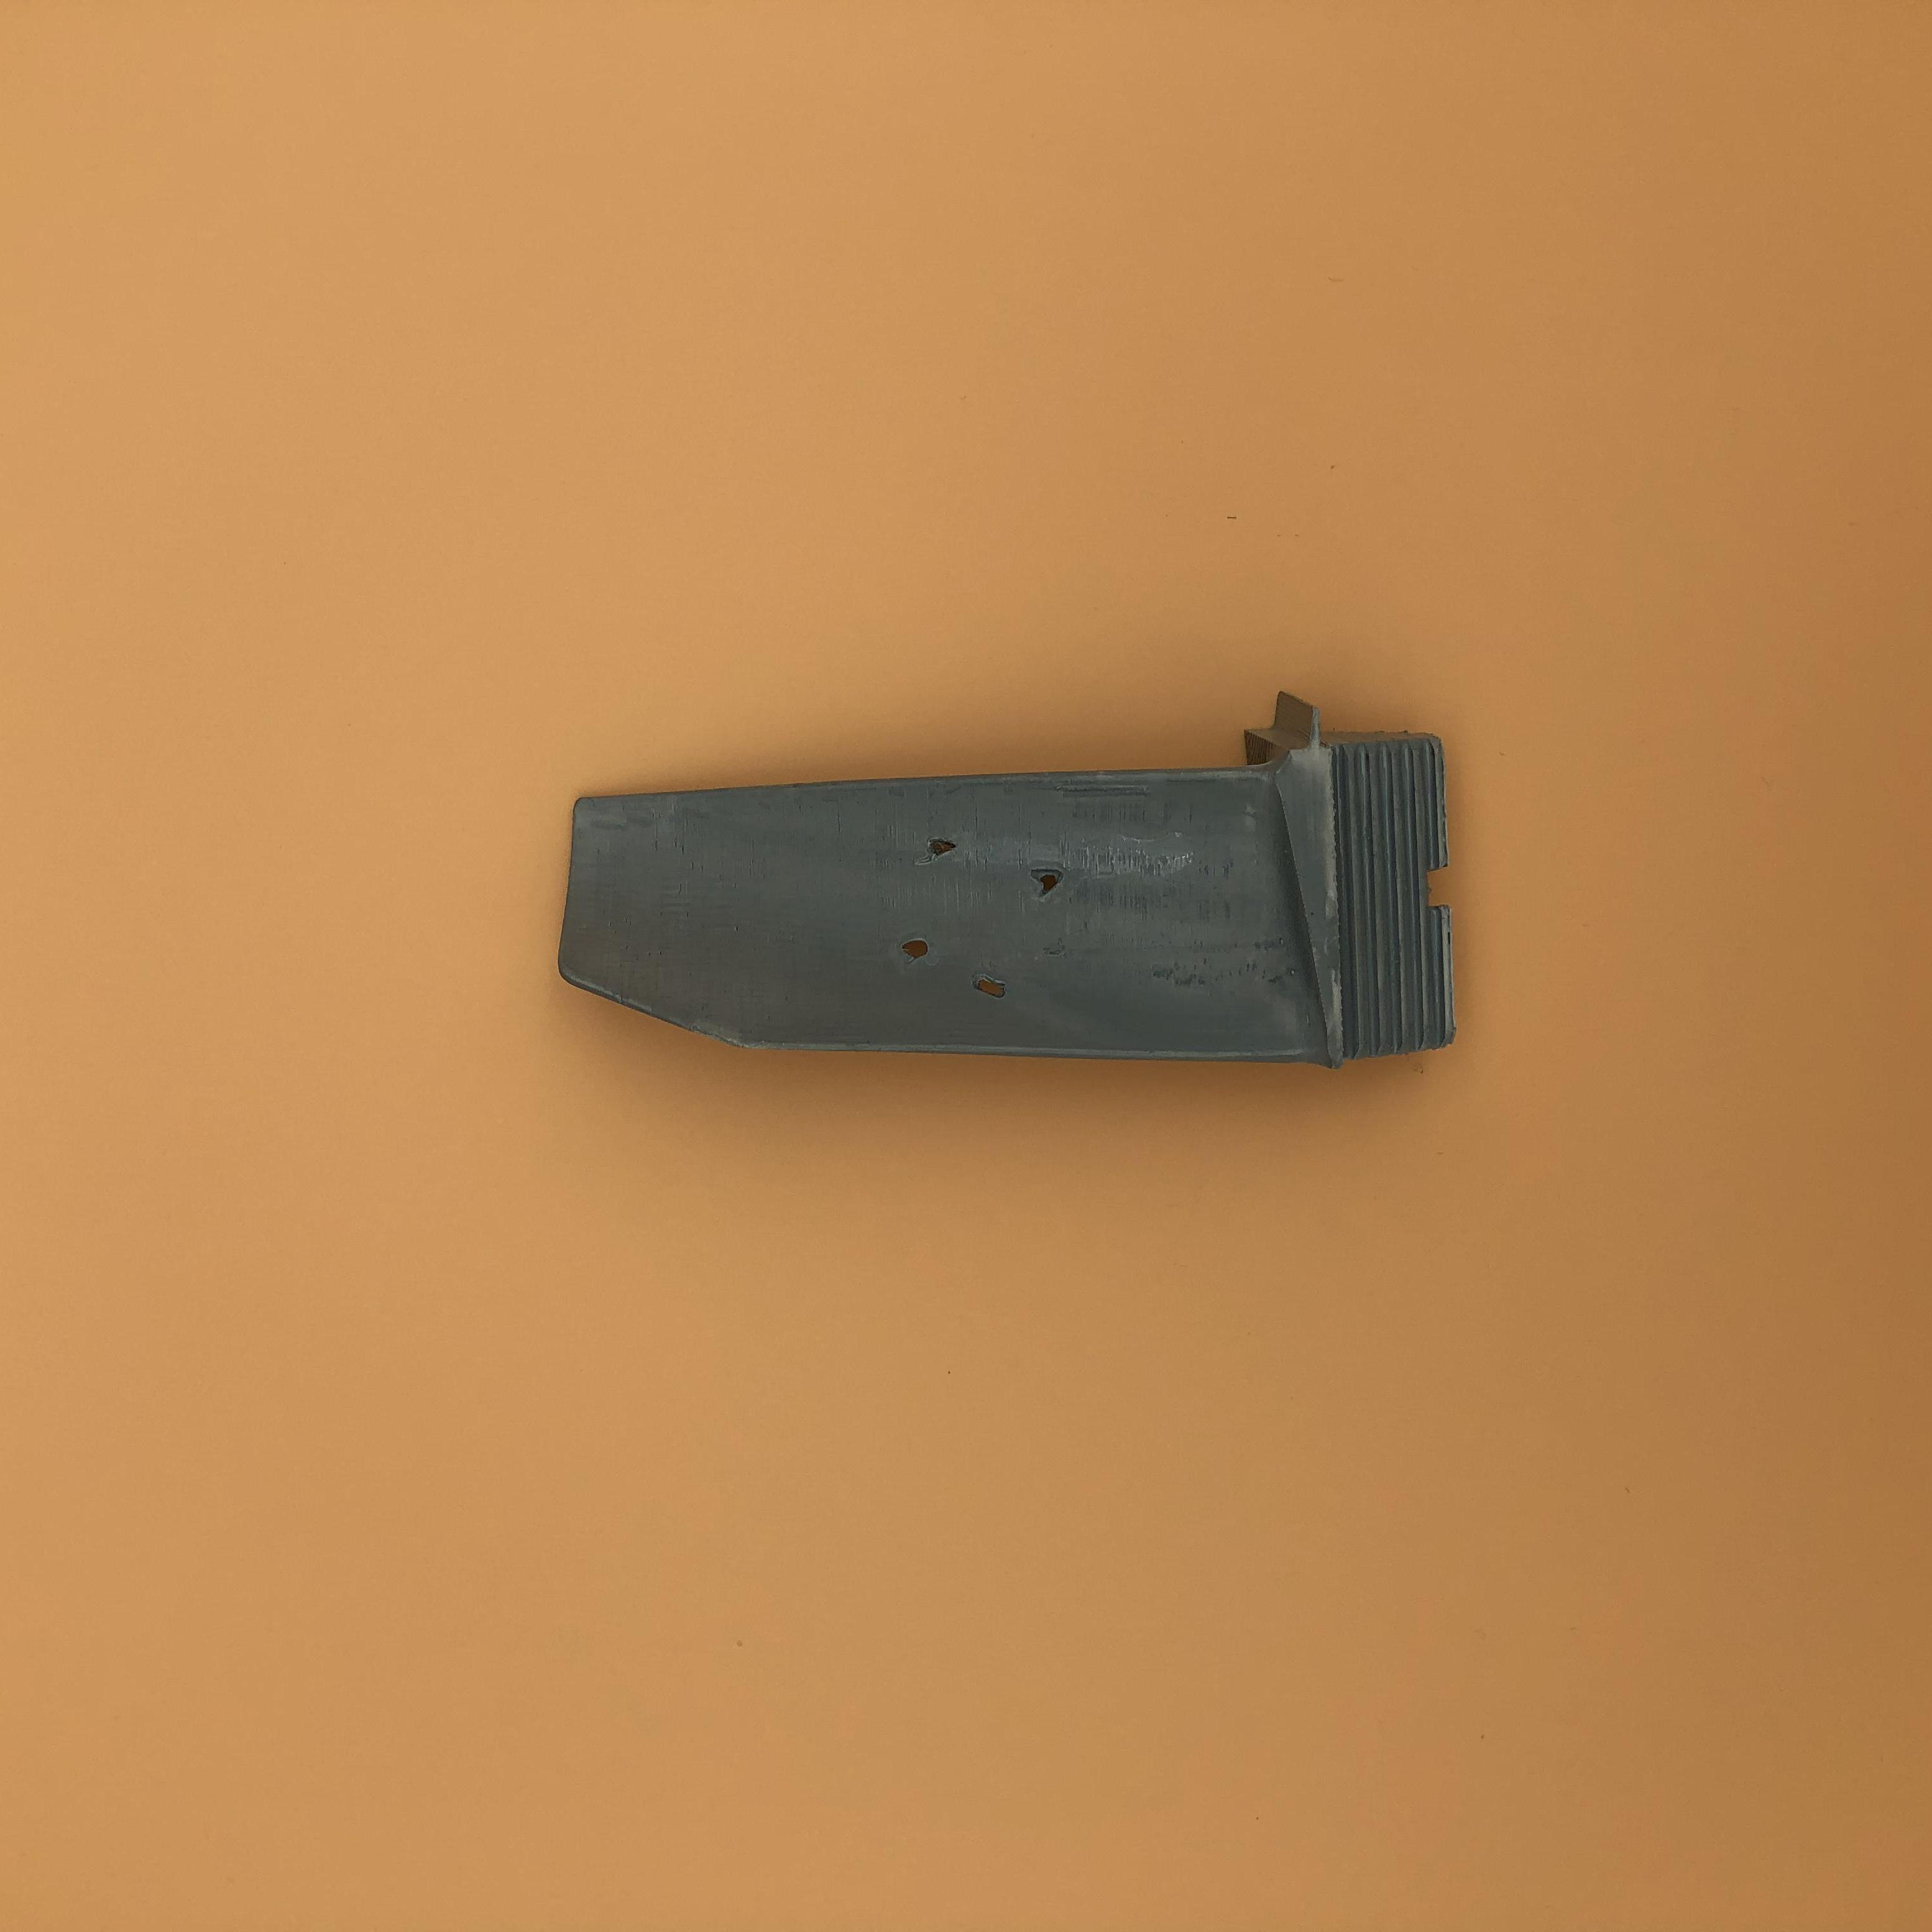breakdown: (906, 842, 1067, 1005)
